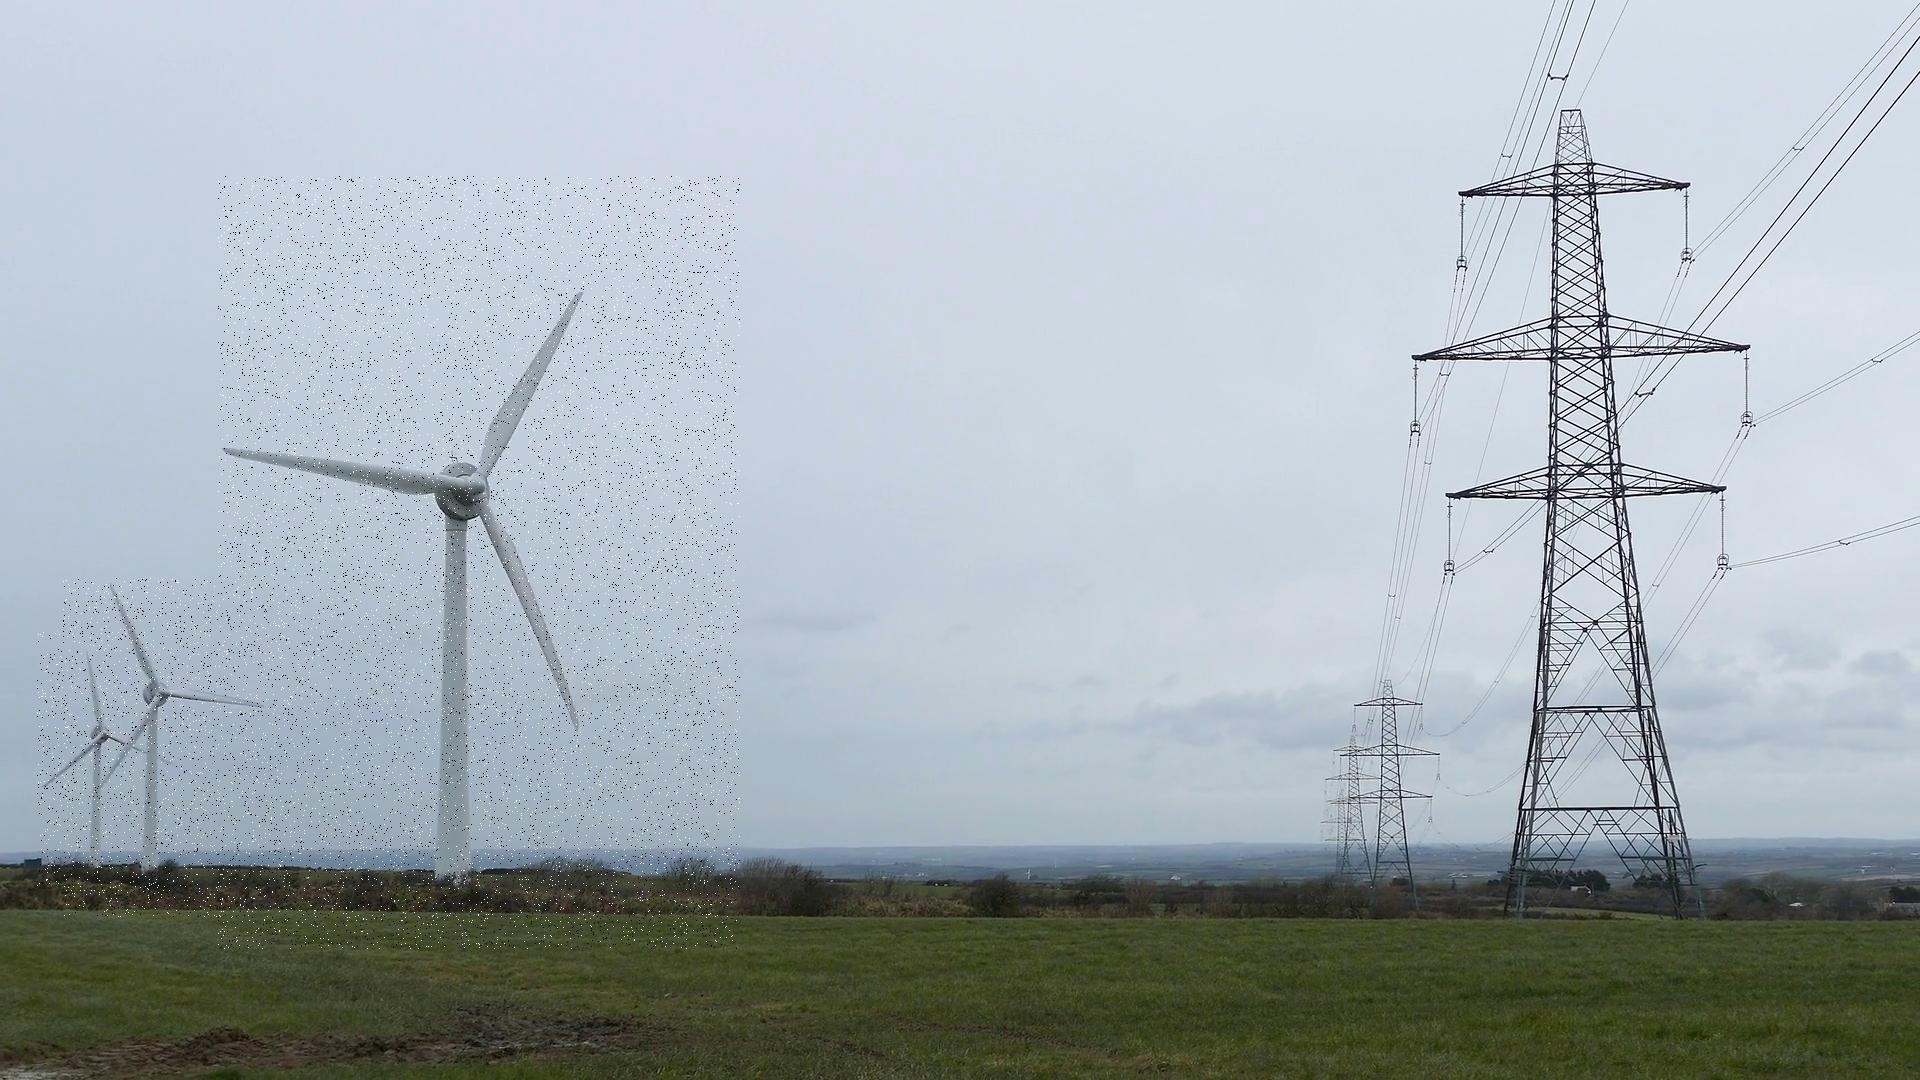cable tower: (1408, 105, 1754, 935), (1340, 676, 1443, 910), (1325, 736, 1383, 891), (1319, 789, 1362, 882)
turbine: (218, 175, 740, 949), (63, 579, 293, 918), (37, 633, 193, 887)
